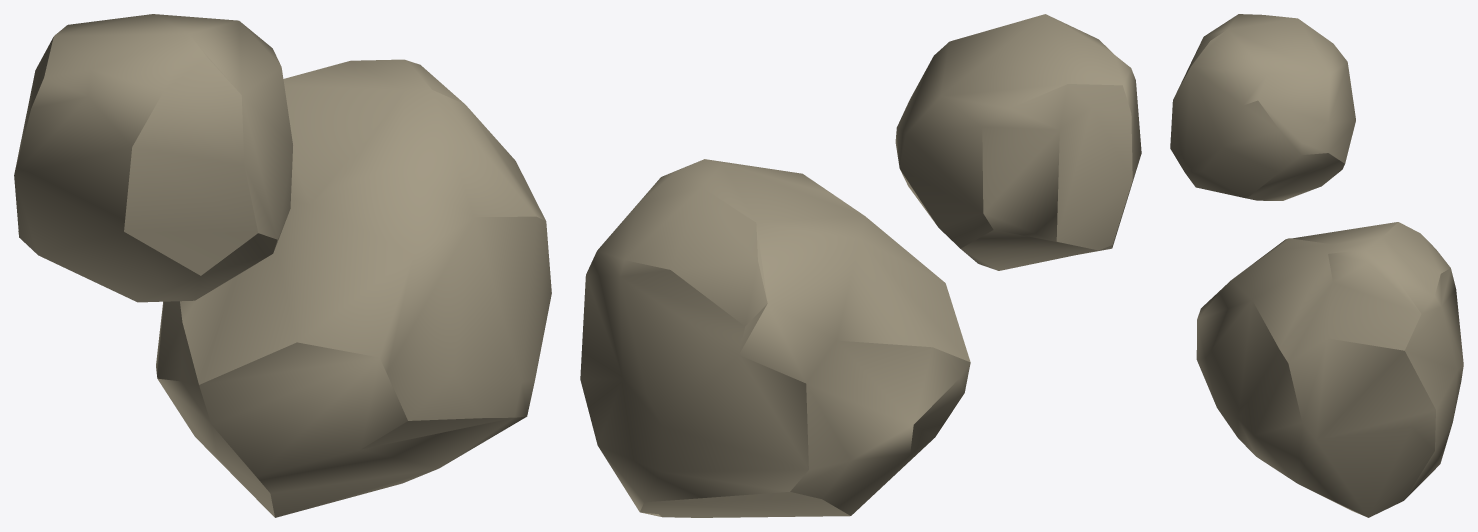
The model's file is Rocks.glb.
3 views of the same model, side by side, from view 1: azimuth 30°, elevation 25°; view 2: azimuth 150°, elevation 25°; view 3: azimuth 270°, elevation 25° (orthographic). The views are drawn at different scales.
Parts seen in each view (by area): view 1: UI_Rocks; view 2: UI_Rocks; view 3: UI_Rocks.
Boxes of the visible parts, x1,y1,x2,y2 form: UI_Rocks: (14, 14, 551, 517); UI_Rocks: (580, 14, 1141, 517); UI_Rocks: (1170, 14, 1463, 517).
Bounding box in the file's own units: 0.4073 × 0.412 × 0.2855.
Materials: 1 (1 with a texture image).
